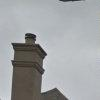Chimney: (9, 26, 48, 73)
